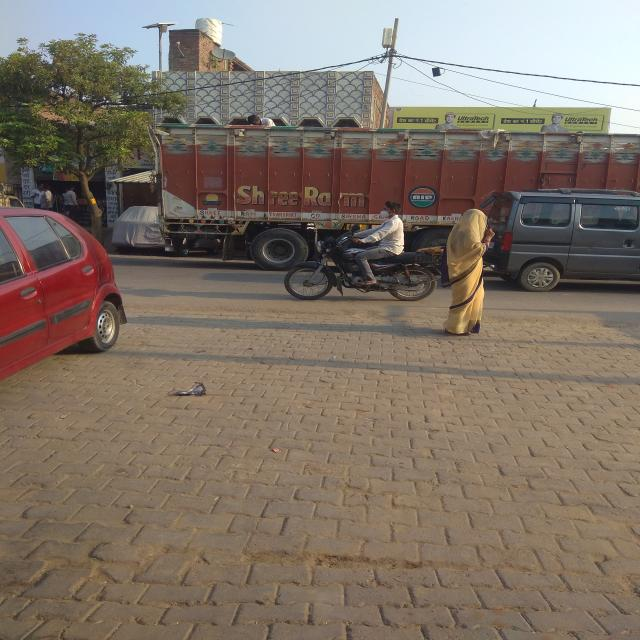Car: (0, 208, 127, 379)
Truck: (157, 124, 640, 270)
Two Wheeler: (283, 234, 440, 301)
